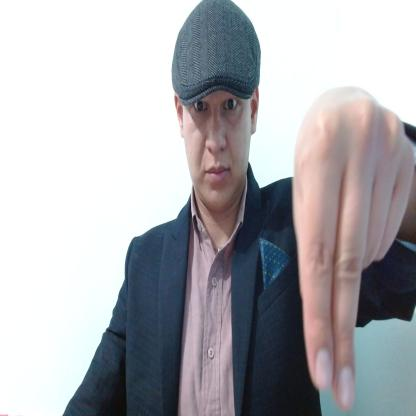N: (295, 88, 415, 414)
